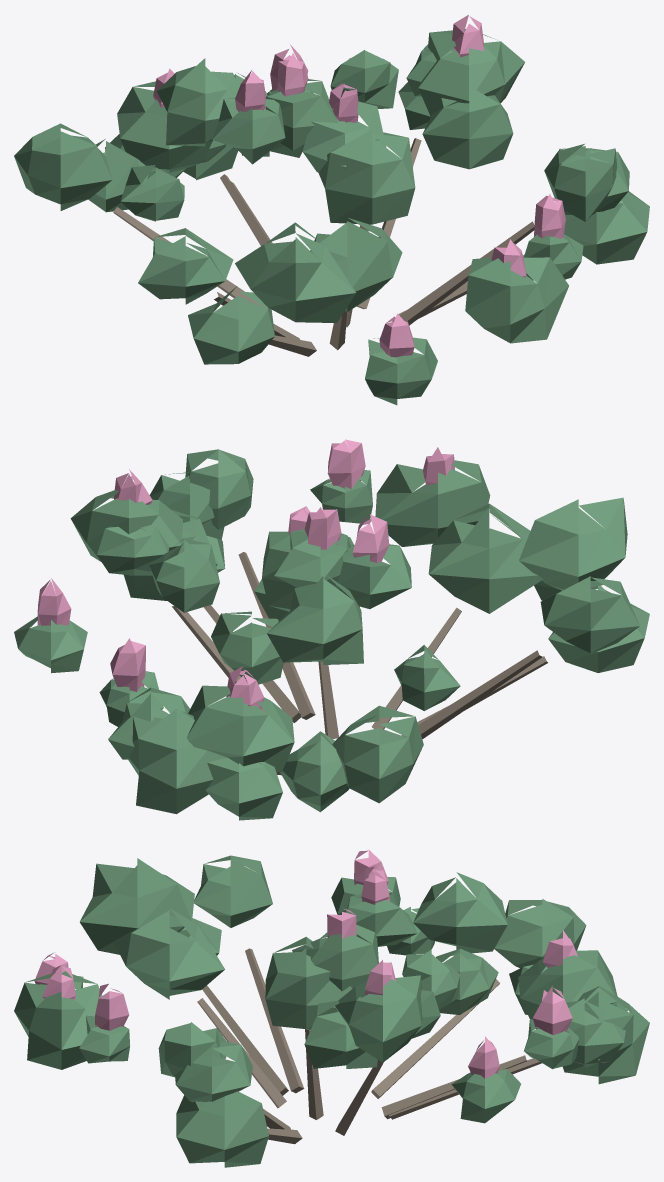
Rendered from temperate-forest-ecology-heather-clump-d5cb5570__3842.glb.
3 views of the same model, one above another, from view 1: azimuth 30°, elevation 25°; view 2: azimuth 150°, elevation 25°; view 3: azimuth 270°, elevation 25° (orthographic). The views are drawn at different scales.
Visible parts, largest first — view 1: heather-clump; view 2: heather-clump; view 3: heather-clump.
Part boxes in pixels (left/top/right/bottom): heather-clump: left=14, top=14, right=649, bottom=405; heather-clump: left=14, top=439, right=649, bottom=820; heather-clump: left=14, top=849, right=649, bottom=1167.
Size of the model in its own units: 1.05 by 0.512 by 1.2.
